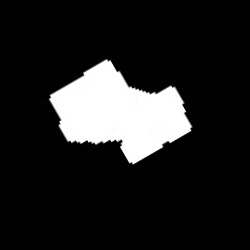spot: (49, 59, 192, 164)
